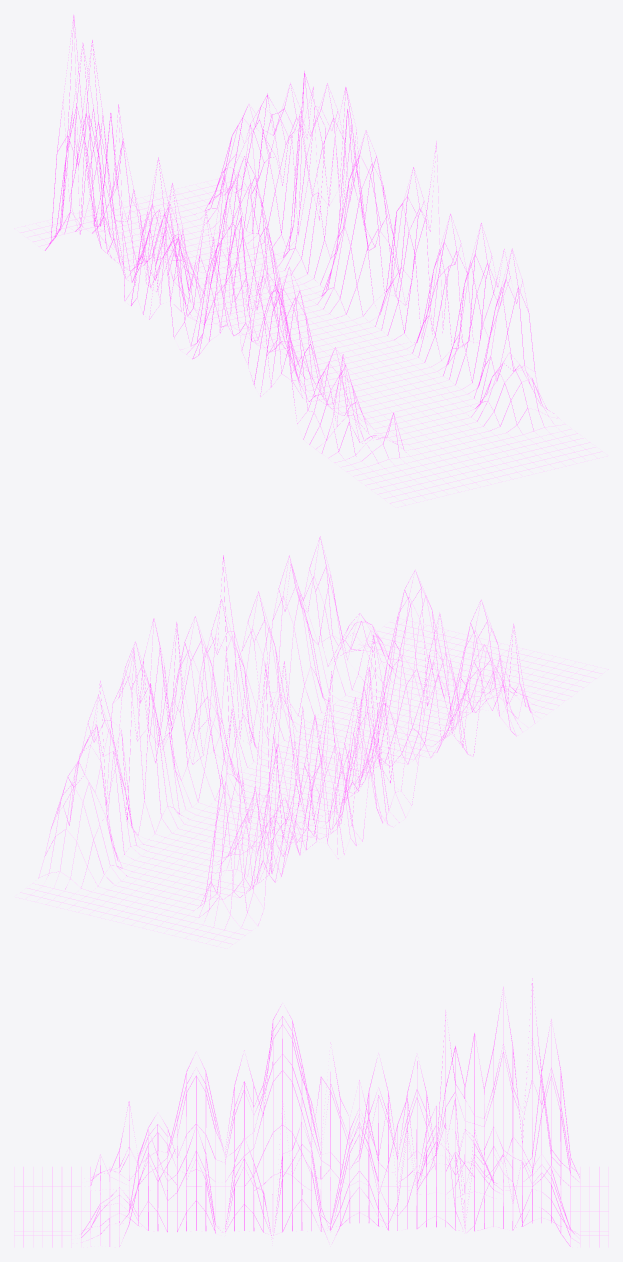
File: grid-mobile.glb
3 renders of one model, top to bottom at view 1: azimuth 30°, elevation 25°; view 2: azimuth 150°, elevation 25°; view 3: azimuth 270°, elevation 25°, orthographic. The views are drawn at different scales.
Parts seen in each view (by area): view 1: Plane; view 2: Plane; view 3: Plane.
Part boxes in pixels (<box>): Plane: <box>14,14,607,507</box>; Plane: <box>15,536,608,948</box>; Plane: <box>14,978,608,1247</box>.
Bounding box in the file's own units: 20.02 × 22.22 × 62.
